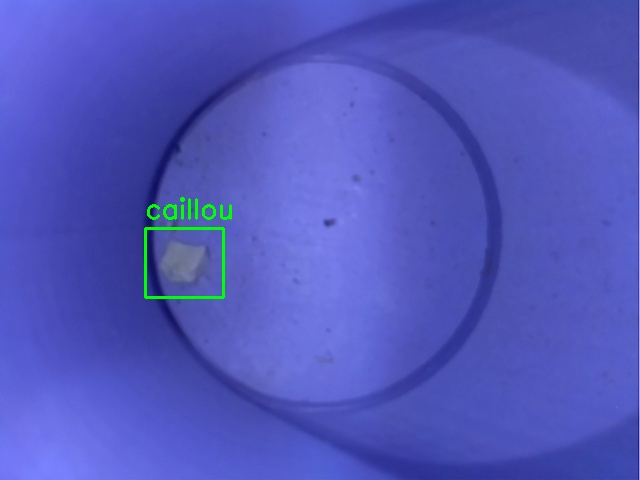caillou: (145, 228, 223, 297)
